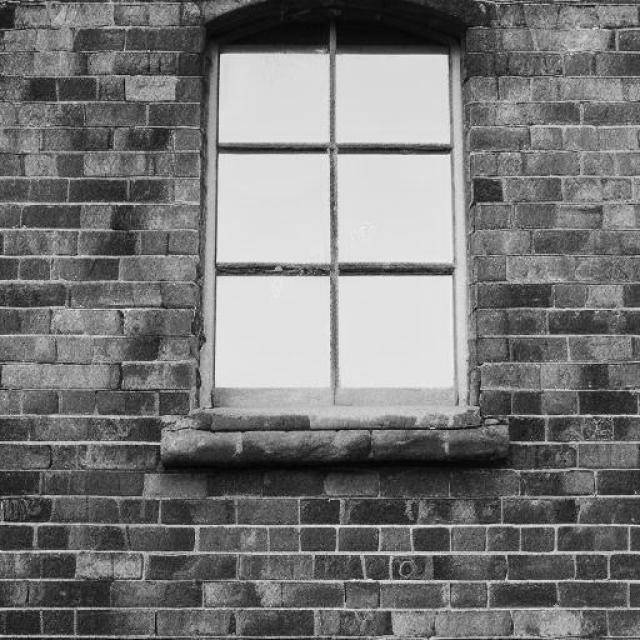window: (207, 29, 472, 406)
